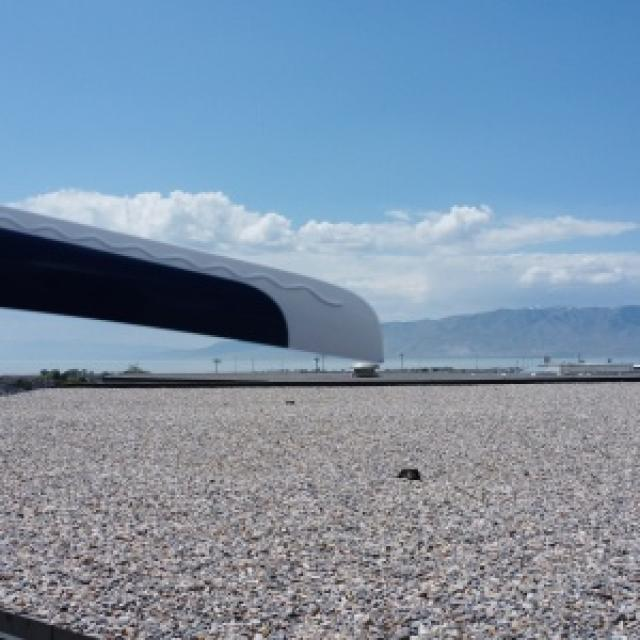healthy: (0, 384, 638, 638), (0, 205, 382, 358)
